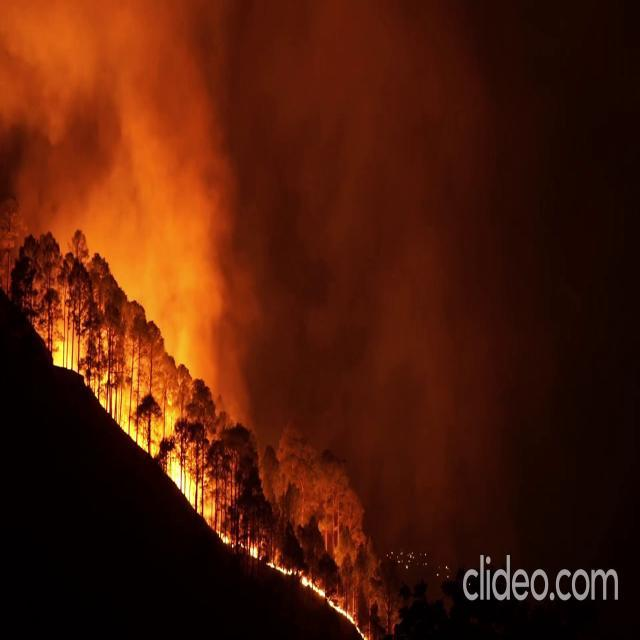Fire: (94, 356, 142, 454), (170, 443, 216, 533), (300, 571, 356, 633)
Smoke: (1, 1, 521, 500)
